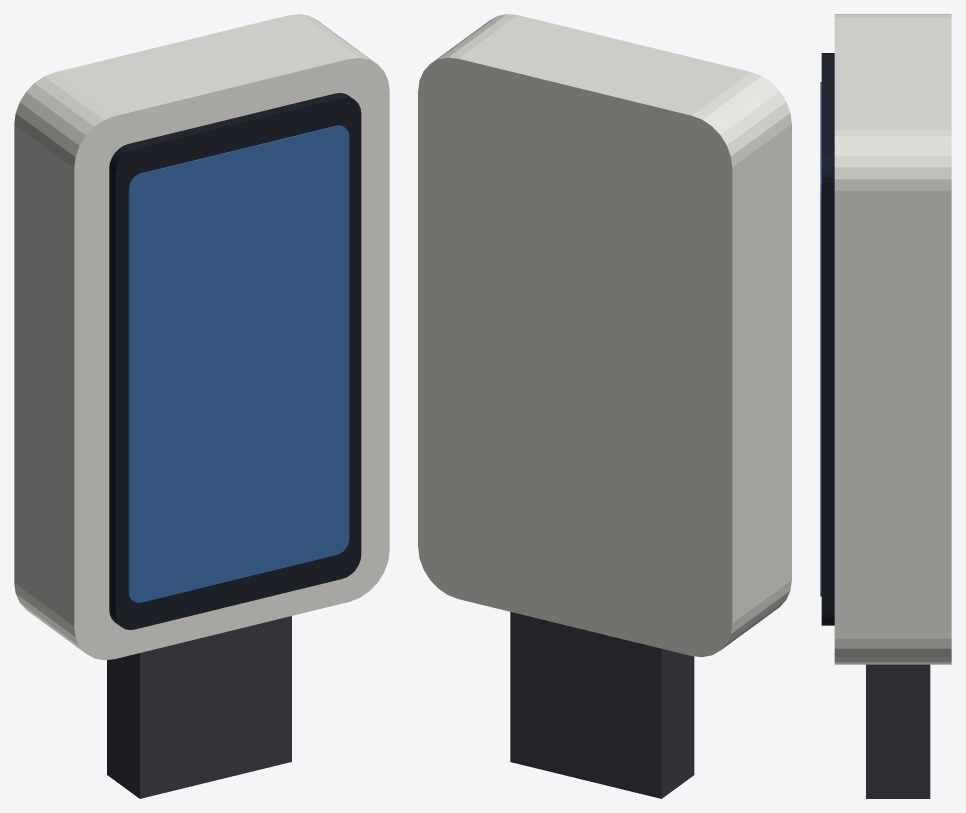
The model's file is device.canary-display-nightstand.glb.
3 renders of one model, left to right at view 1: azimuth 30°, elevation 25°; view 2: azimuth 150°, elevation 25°; view 3: azimuth 270°, elevation 25°, orthographic. The views are drawn at different scales.
Size of the model in its own units: 0.0249 by 0.0532 by 0.0092.
